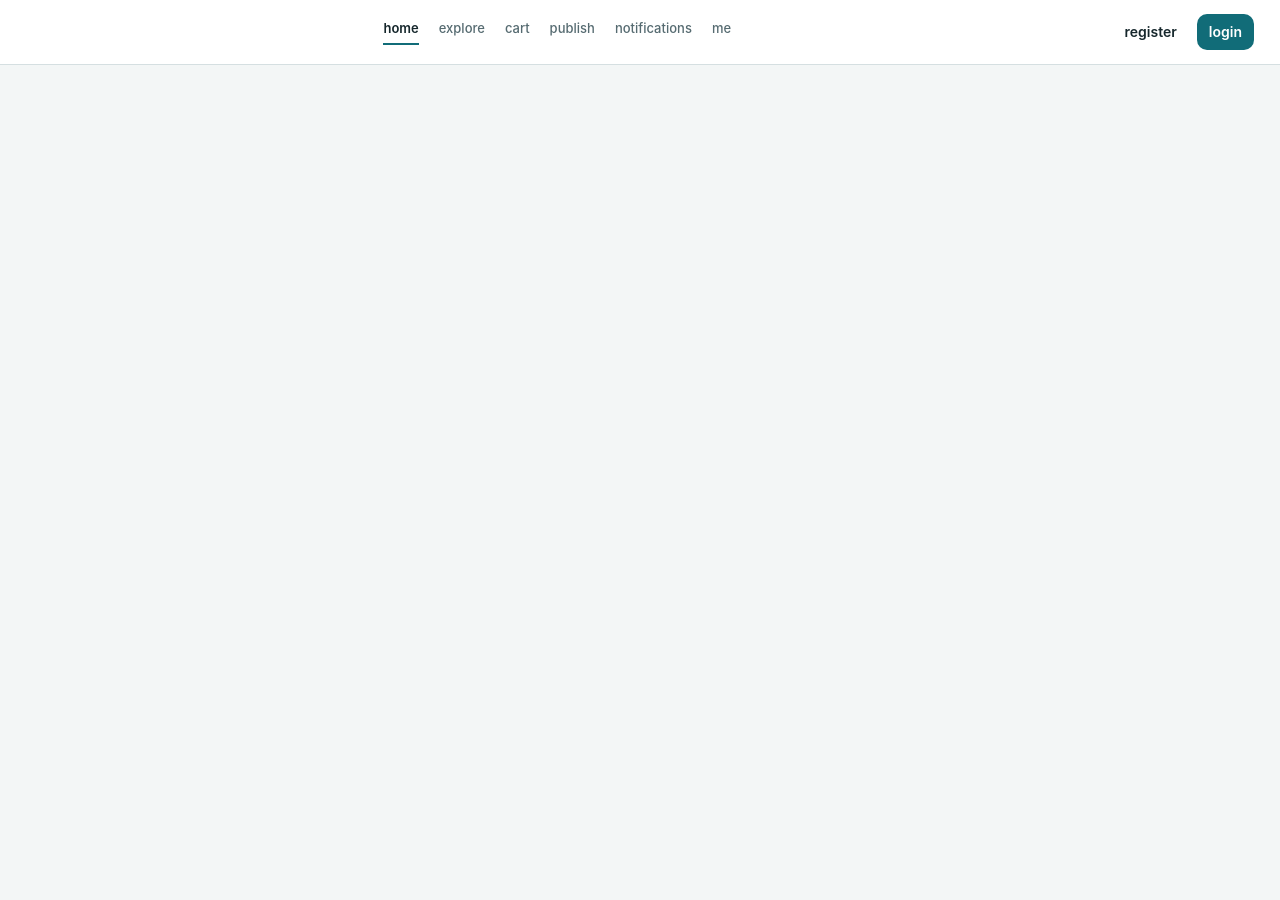
Test: switches the header login dialog between password and Gmail code forms
The image size is (1280, 900).
Click the button "login": (1225, 32) x1=1197 y1=14 x2=1254 y2=50
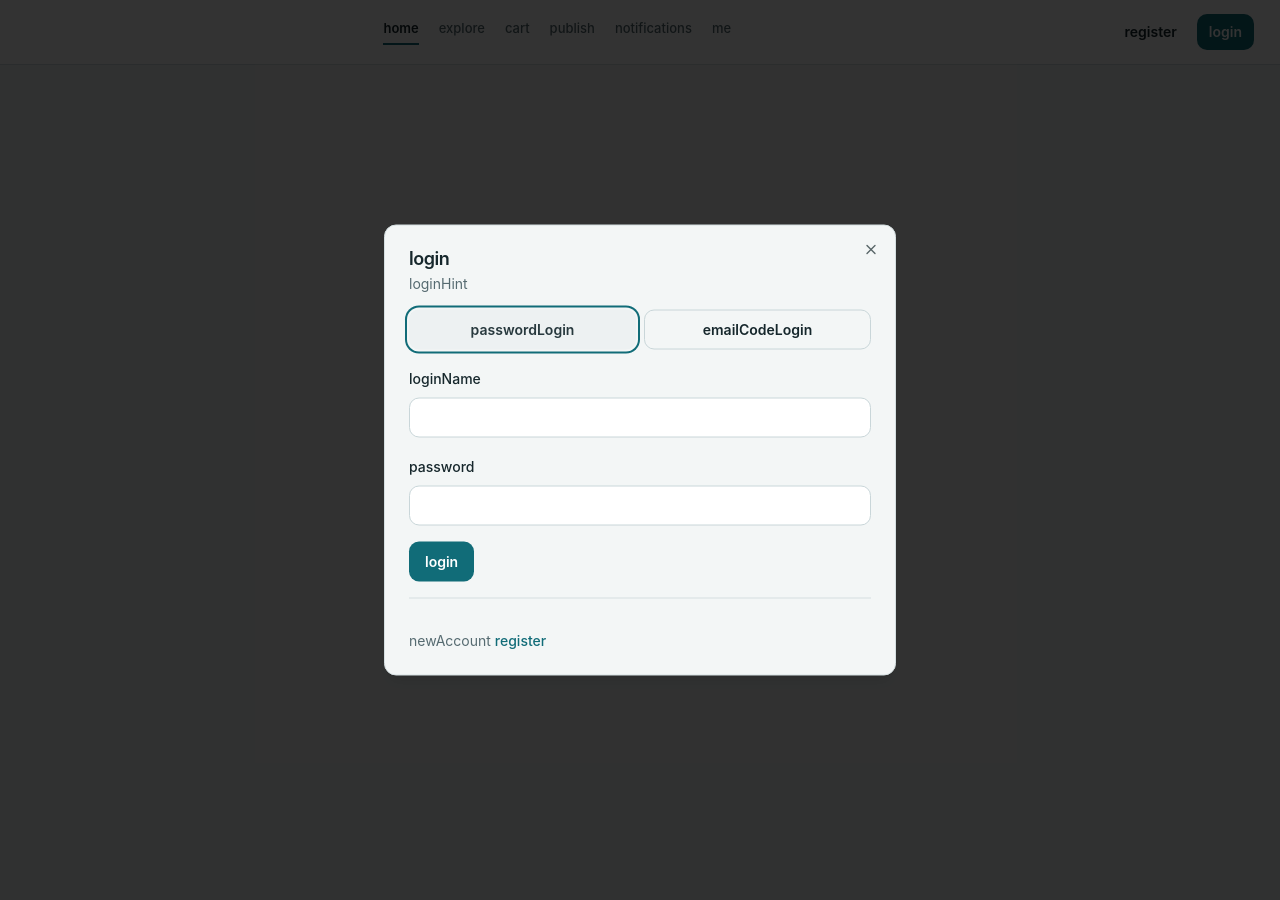
Expected: the field labelled "emailAddress" is not shown
Result: the field labelled "loginName" is shown at x1=409 y1=398 x2=871 y2=438
Result: the password field labelled "password" is shown at x1=409 y1=486 x2=871 y2=526
Click the button "emailCodeLogin": (758, 330) x1=644 y1=310 x2=871 y2=350
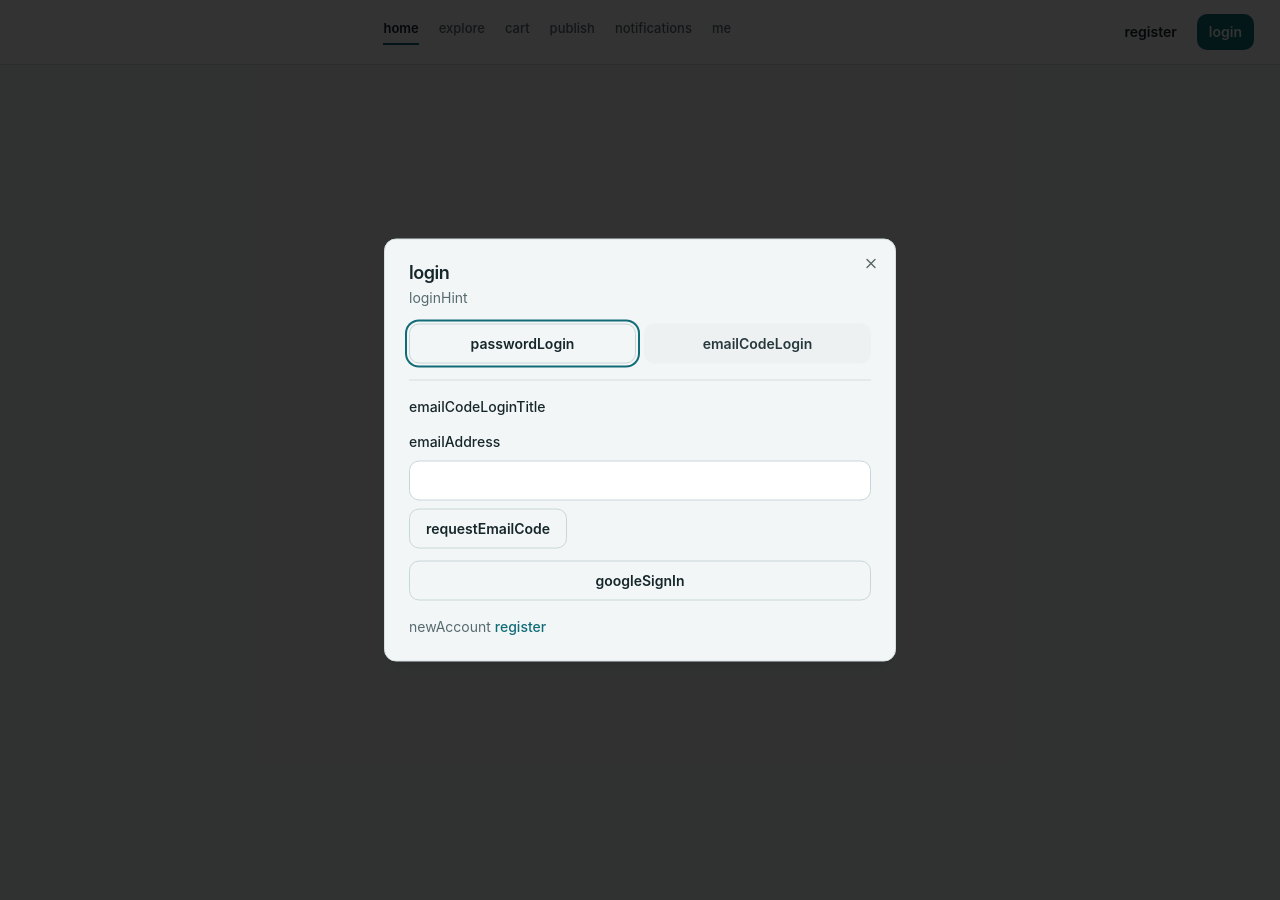
Result: the field labelled "emailAddress" is shown at x1=409 y1=460 x2=871 y2=500
Result: the button "googleSignIn" is shown at x1=409 y1=560 x2=871 y2=600
